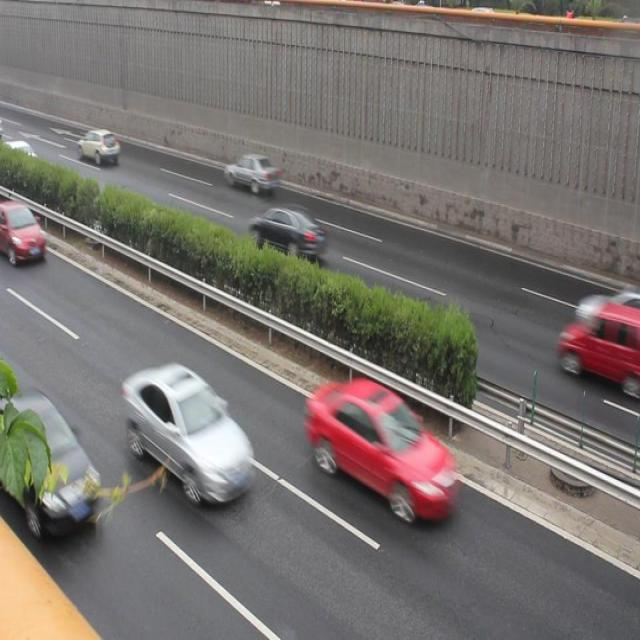car: (308, 378, 455, 519), (127, 365, 255, 503), (1, 387, 101, 539), (248, 202, 325, 260), (0, 198, 44, 268), (224, 150, 279, 196), (78, 130, 121, 164)
